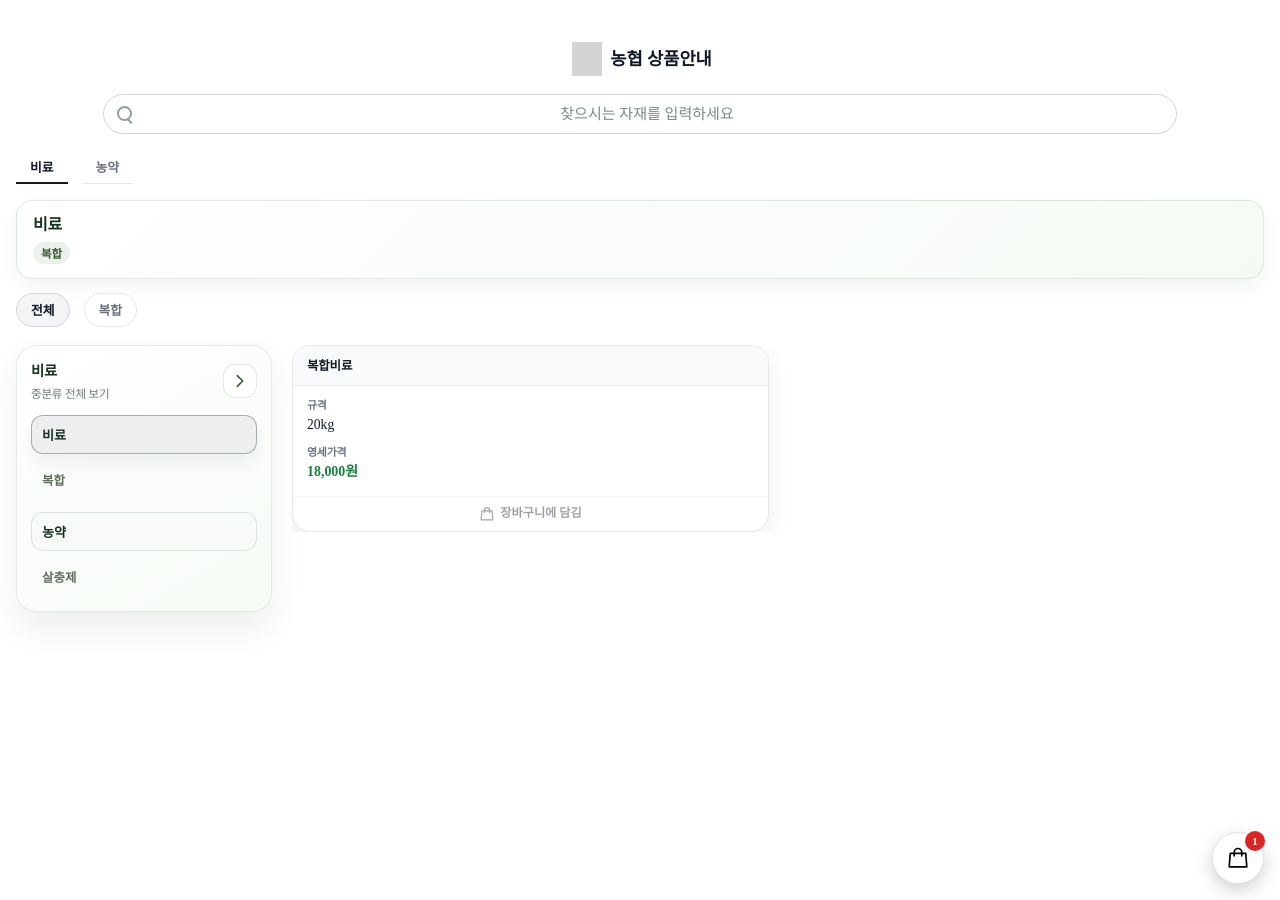
장바구니 가격은 지금 보고 있는 분류에 흔들리지 않는다 › keeps the fertilizer price visible while the shopper browses pesticides
손님이 농약 분류로 옮긴다 — 비료는 더 이상 화면에 없다.
What coordinates should you click on to do the following:
click the 1st button "농약"
I would click on:
 (107, 167)
Its box is left=82, top=150, right=133, bottom=184.
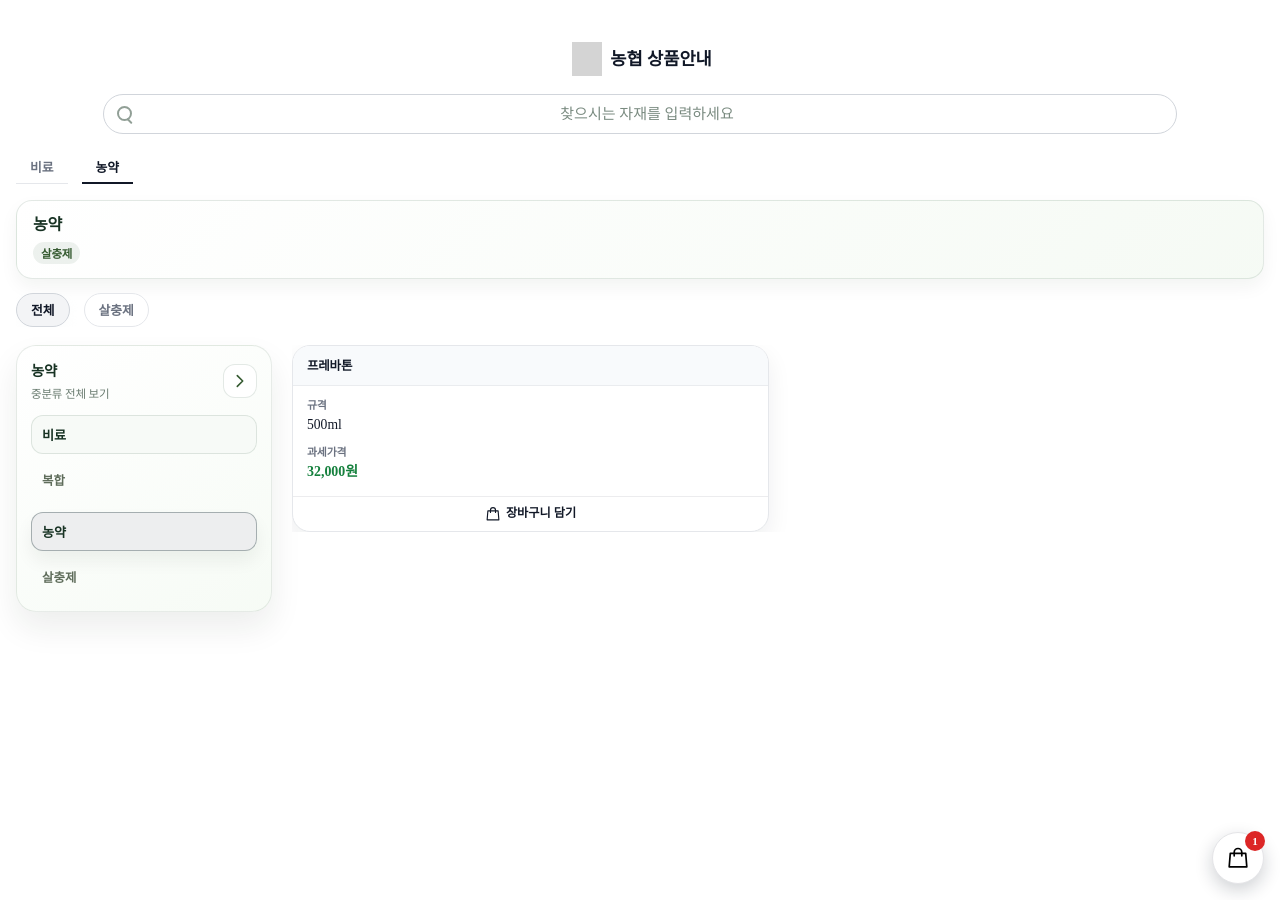
expect the text "복합비료" is gone: met
What coordinates should you click on to do the following:
click the button named "장바구니 열기"
I would click on:
 (1238, 858)
Its box is left=1212, top=832, right=1264, bottom=884.
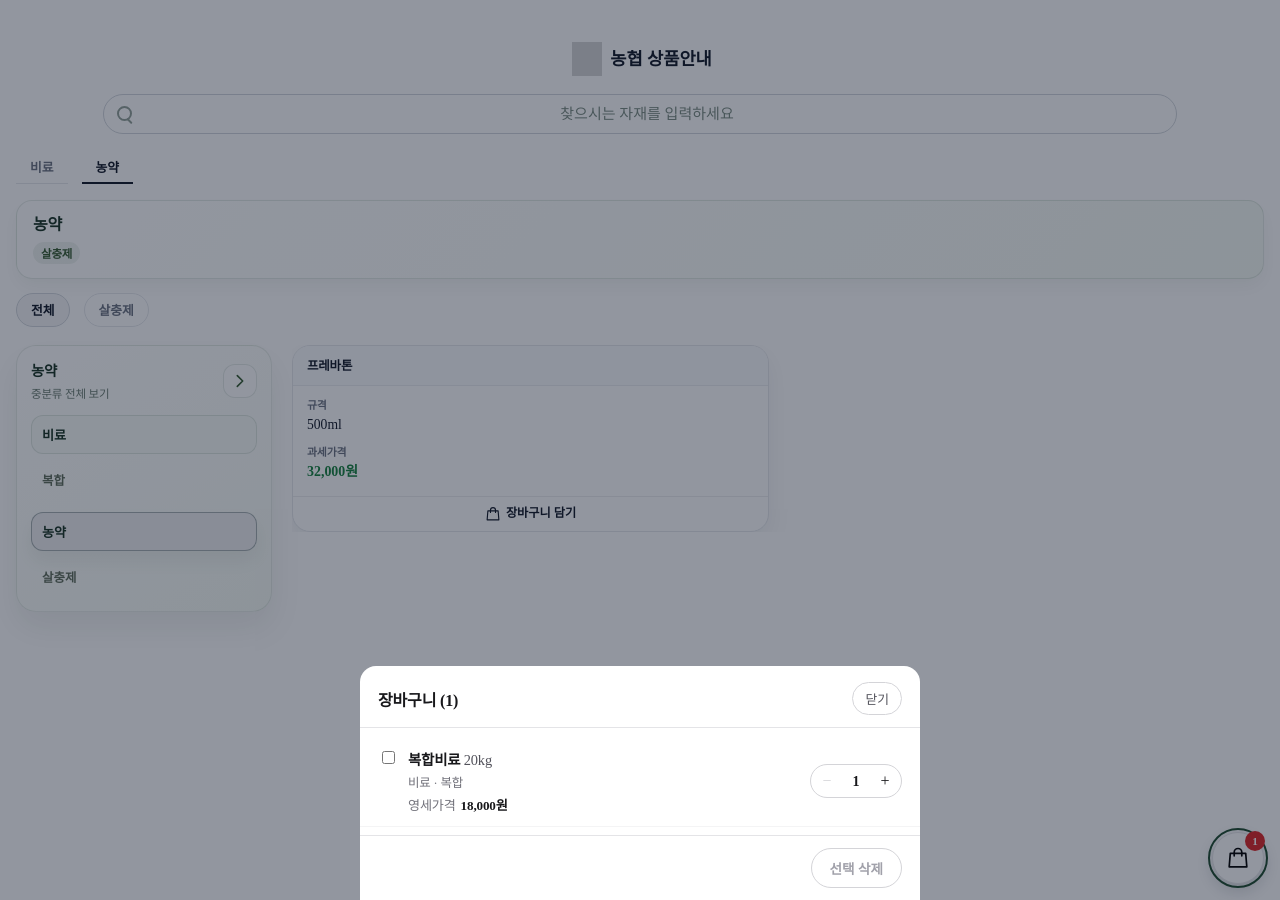
expect the text "복합비료" is shown: met, box left=408, top=752, right=460, bottom=768
expect the text "영세가격" is shown: met, box left=408, top=795, right=456, bottom=814
